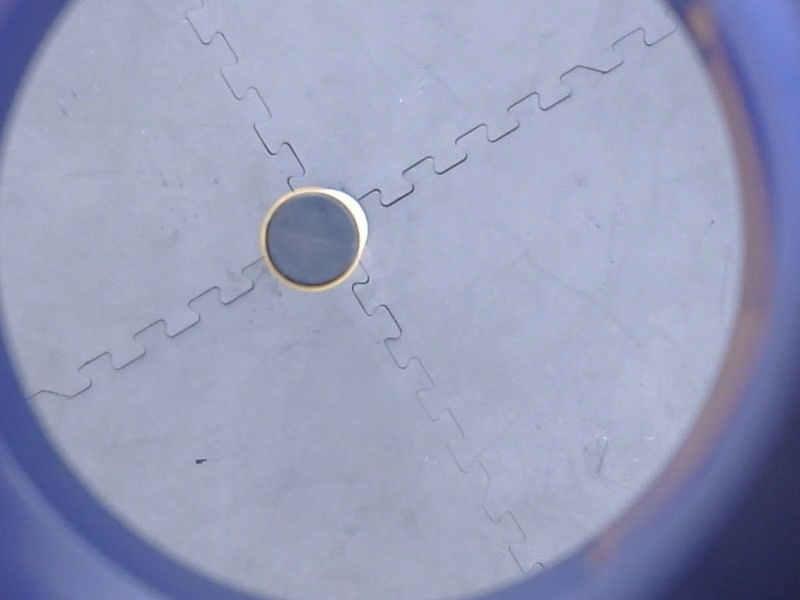tip: (252, 180, 372, 299)
